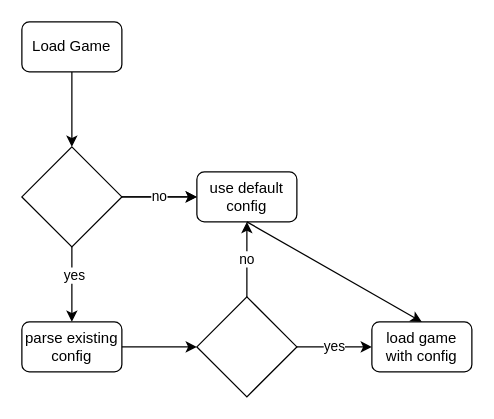
This 494x419 diagram has some shape labels left out. Each missing label, with the centre of its shape:
config exists: the point at 71,196
parse successful: the point at 246,346
